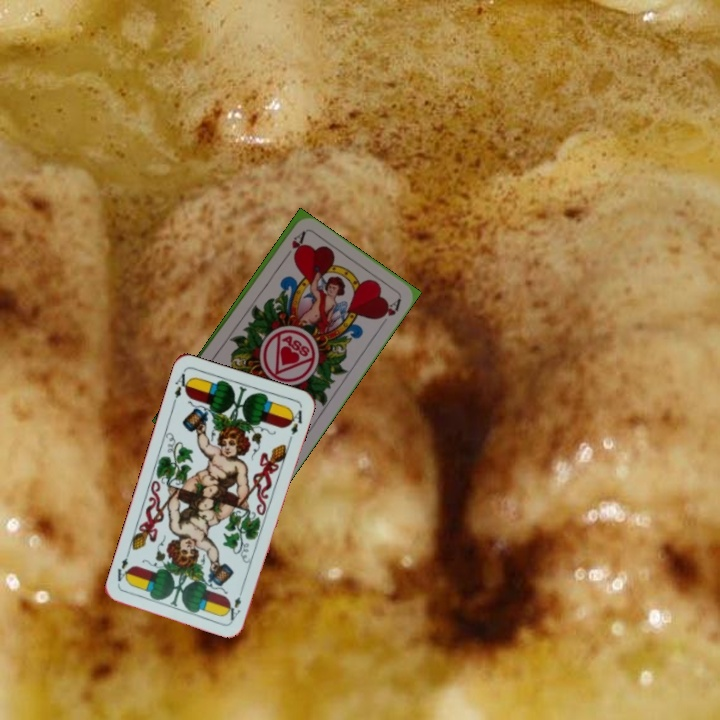EA: (168, 369, 193, 408), (226, 583, 246, 623)
HA: (279, 228, 308, 264)
